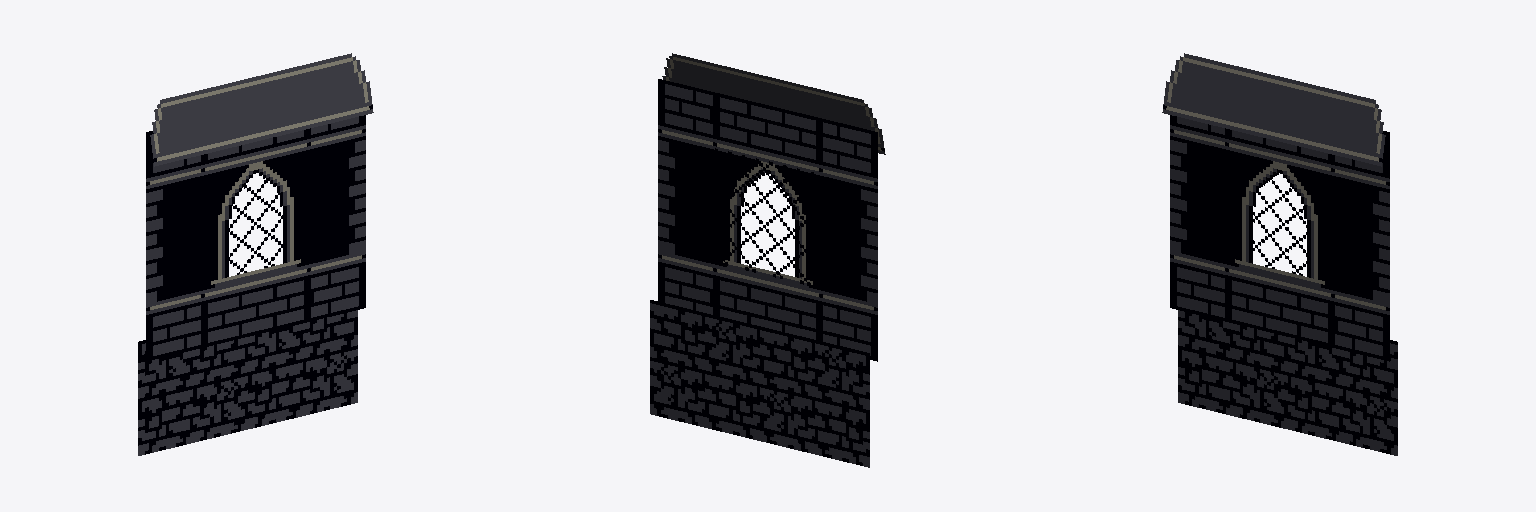
3 renders of one model, left to right at view 1: azimuth 30°, elevation 25°; view 2: azimuth 150°, elevation 25°; view 3: azimuth 330°, elevation 25°, orthographic.
Visible parts, largest first — view 1: Default; view 2: Default; view 3: Default.
Part boxes in pixels (bbox=[...]): Default: bbox=[138, 53, 373, 455]; Default: bbox=[650, 53, 885, 467]; Default: bbox=[1162, 53, 1397, 455].
Size of the model in its own units: 4 by 6.25 by 0.5.
1 materials, 1 textured.